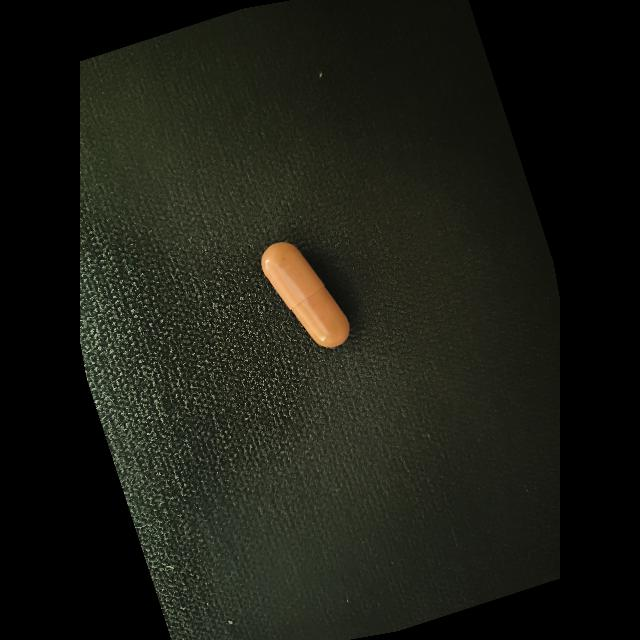Intact Capsule: (261, 242, 350, 348)
